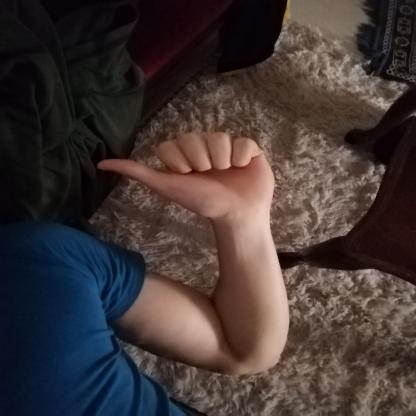DAD: (80, 122, 285, 226)
